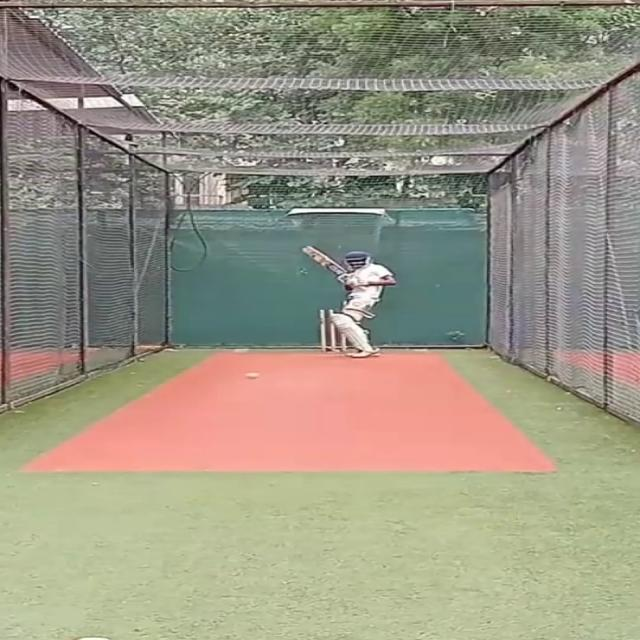ball: (243, 371, 258, 380)
stump: (315, 307, 345, 352)
